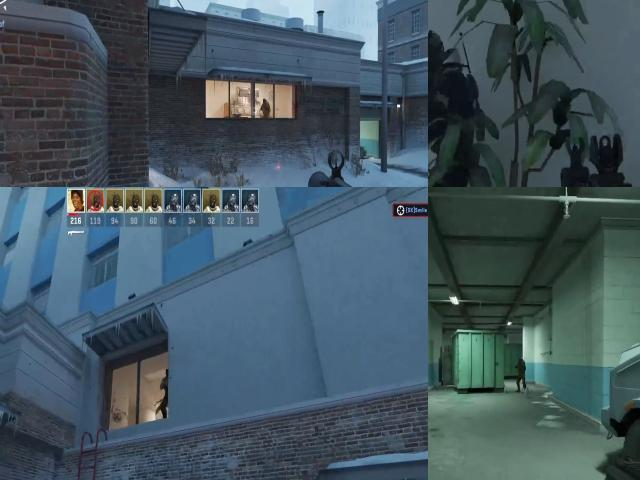CT: (428, 17, 475, 187), (515, 354, 527, 390), (260, 98, 272, 116)
CT-Head: (428, 25, 448, 93), (262, 98, 270, 107)
T: (161, 366, 169, 403)
T-Head: (163, 368, 171, 380)
